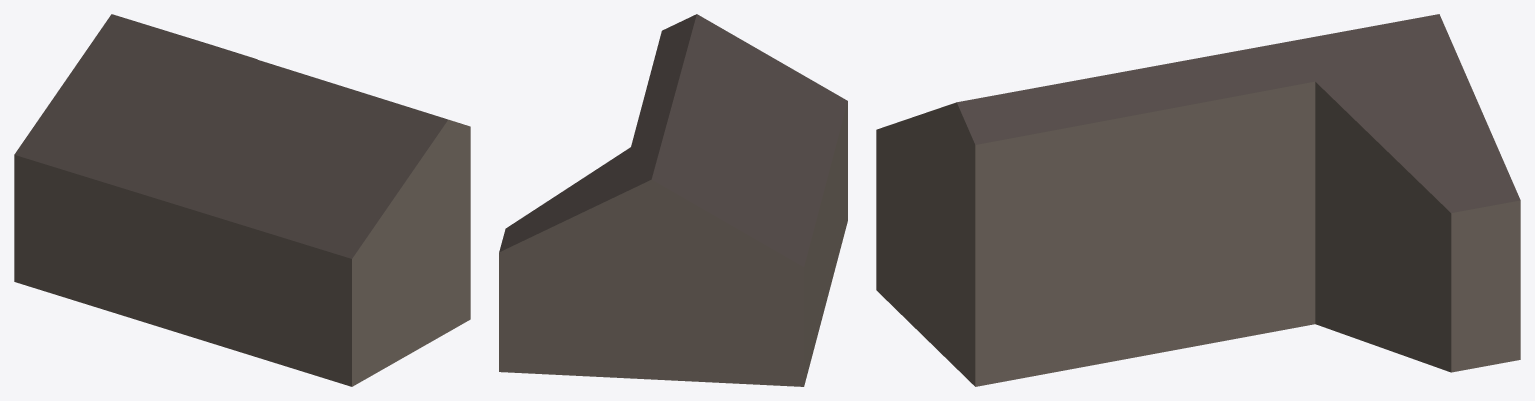
3 renders of one model, left to right at view 1: azimuth 30°, elevation 25°; view 2: azimuth 150°, elevation 25°; view 3: azimuth 270°, elevation 25°, orthographic. The views are drawn at different scales.
Parts seen in each view (by area): view 1: HP-w783664804; view 2: HP-w783664804; view 3: HP-w783664804.
Boxes of the visible parts, left/top/right/bottom form: HP-w783664804: left=14, top=14, right=470, bottom=386; HP-w783664804: left=499, top=14, right=847, bottom=386; HP-w783664804: left=876, top=14, right=1520, bottom=386.
Size of the model in its own units: 15.01 by 10.03 by 21.99.
